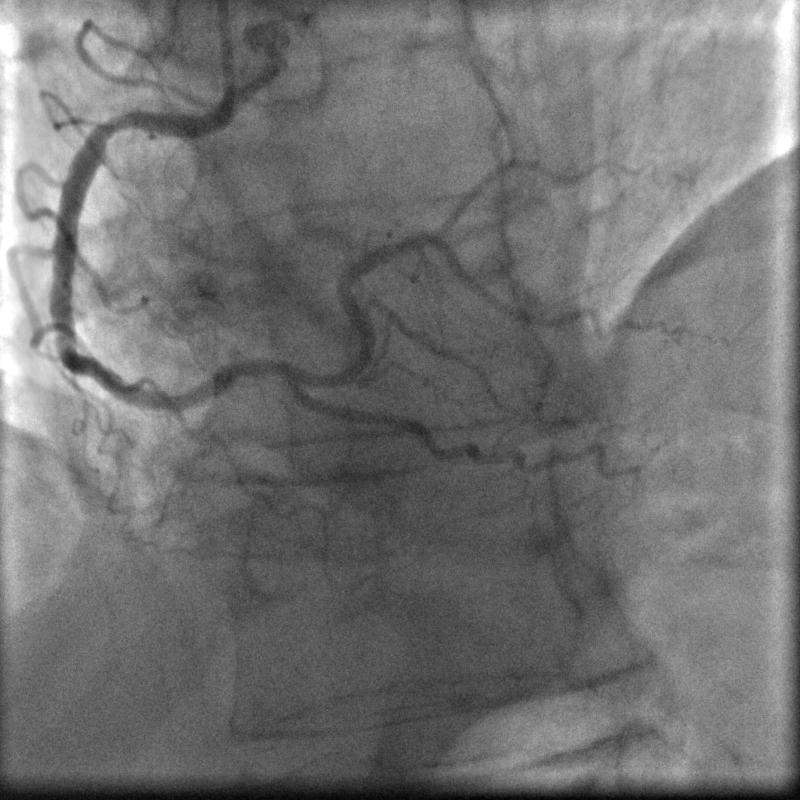Stenosis: (89, 110, 141, 138)
